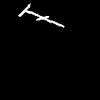double_crochet: (19, 4, 63, 26)
